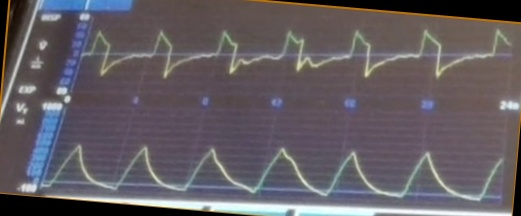Premature_cycling Flow: (88, 22, 512, 89)
Premature_cycling Volume: (53, 134, 500, 200)
